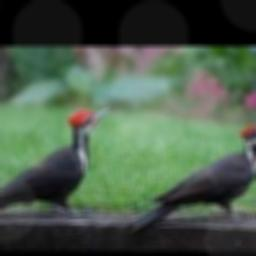Woodpecker: (127, 123, 256, 231), (0, 108, 111, 218)
